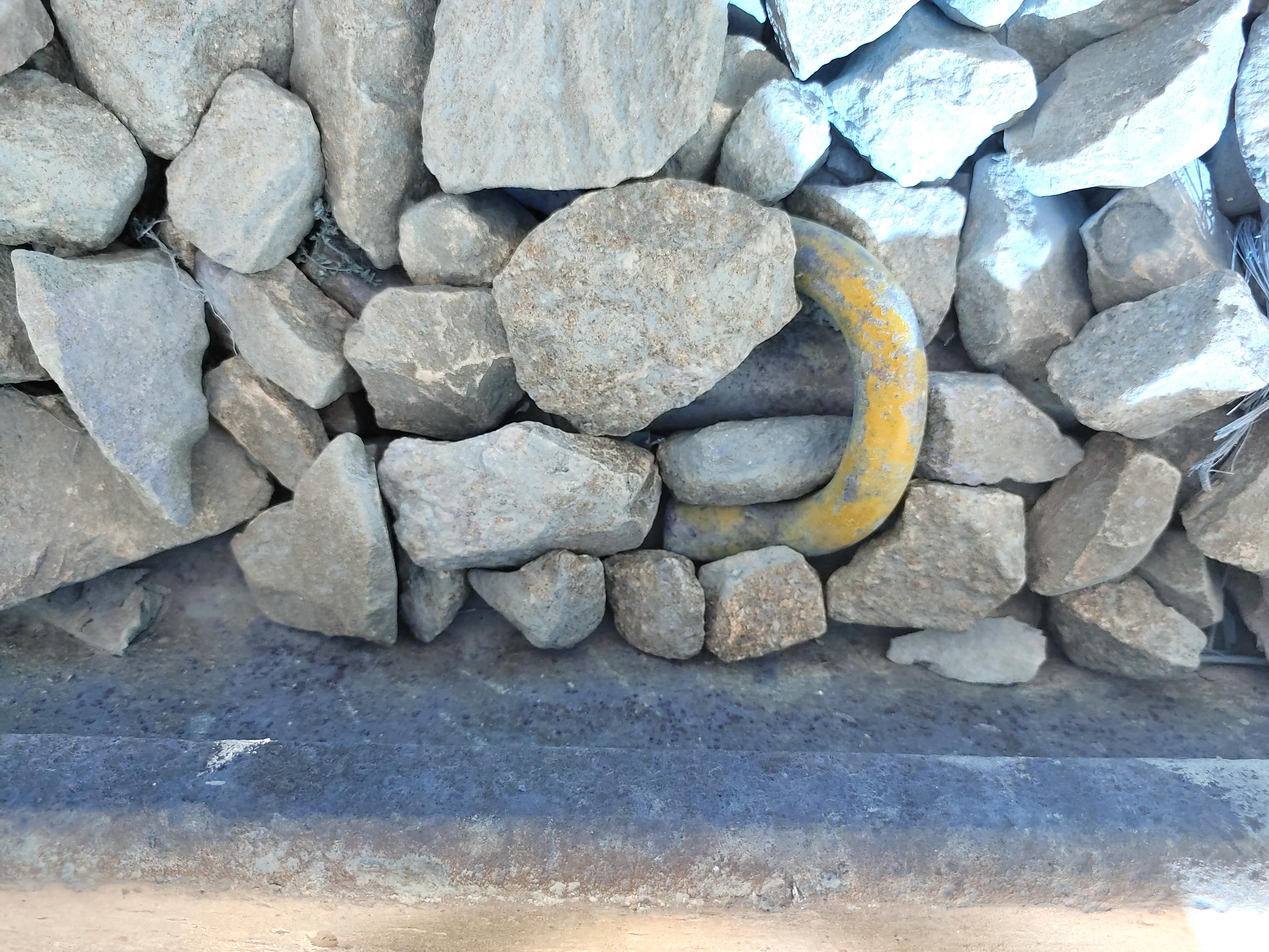Poor contact: (713, 214, 929, 553)
